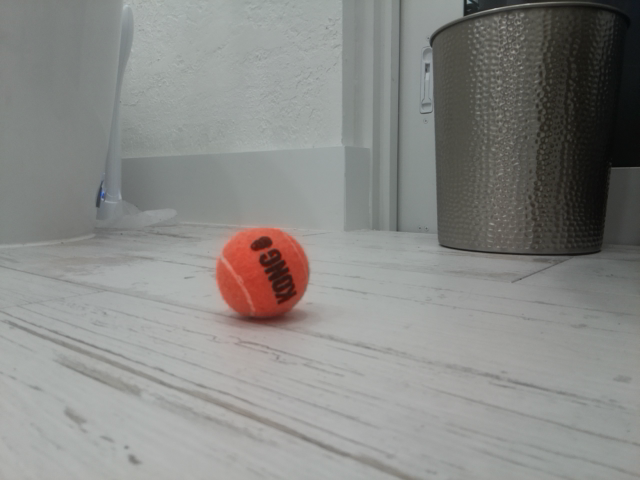orange-ball: (215, 226, 311, 320)
